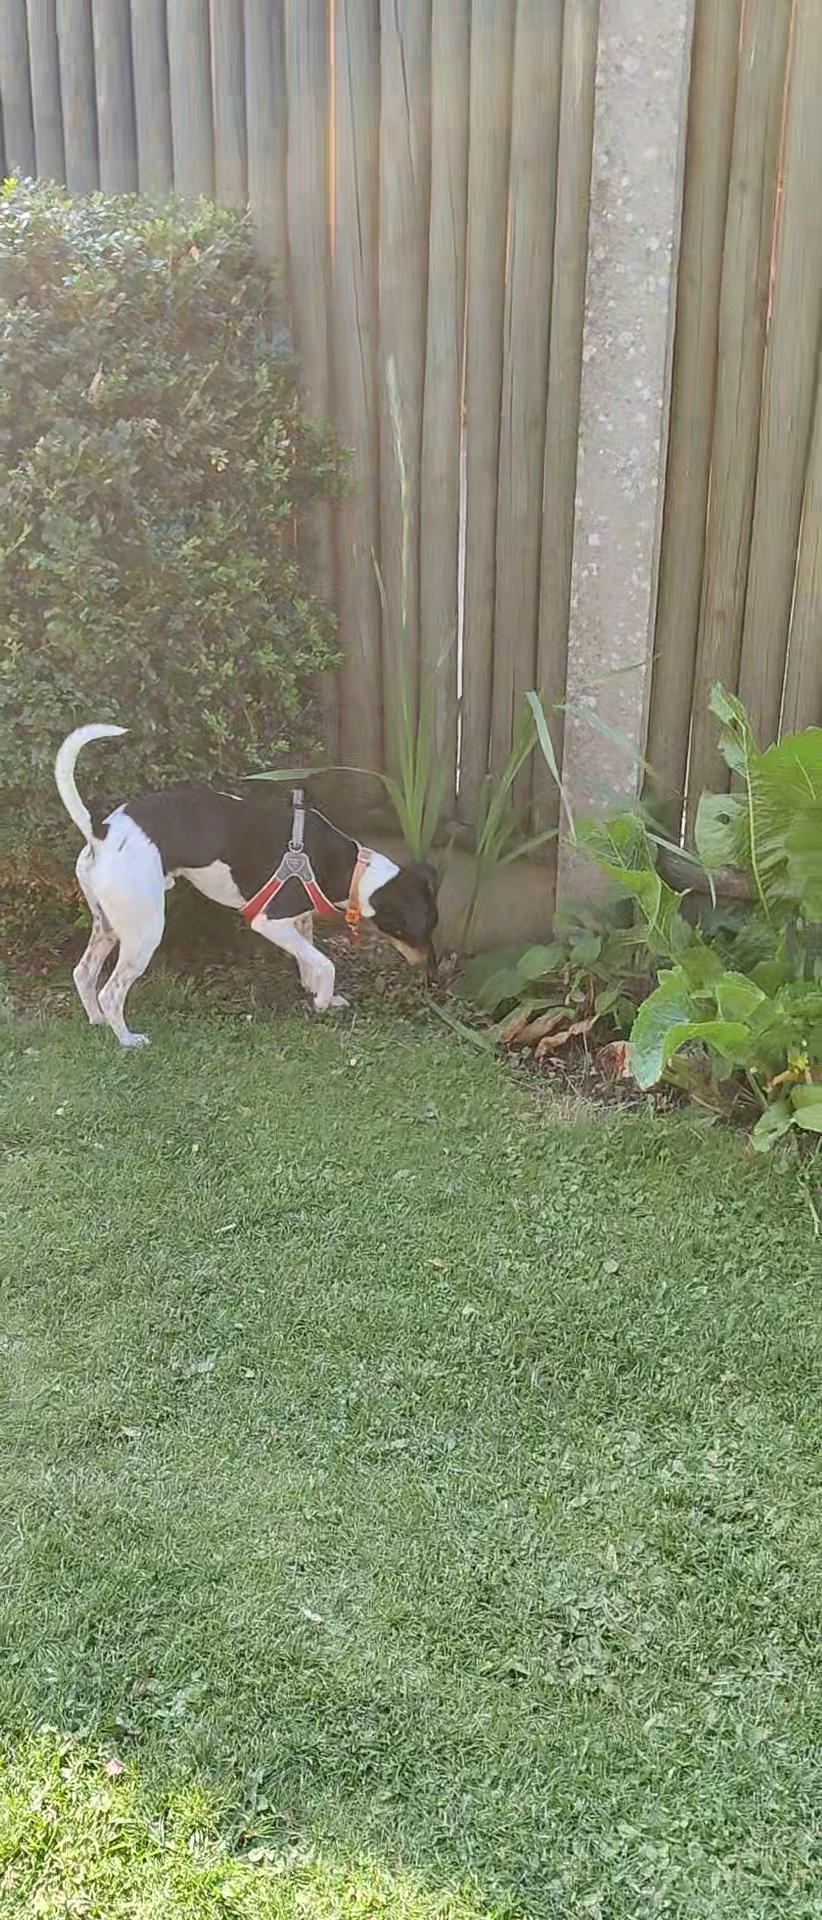Dog: (39, 719, 451, 1054)
